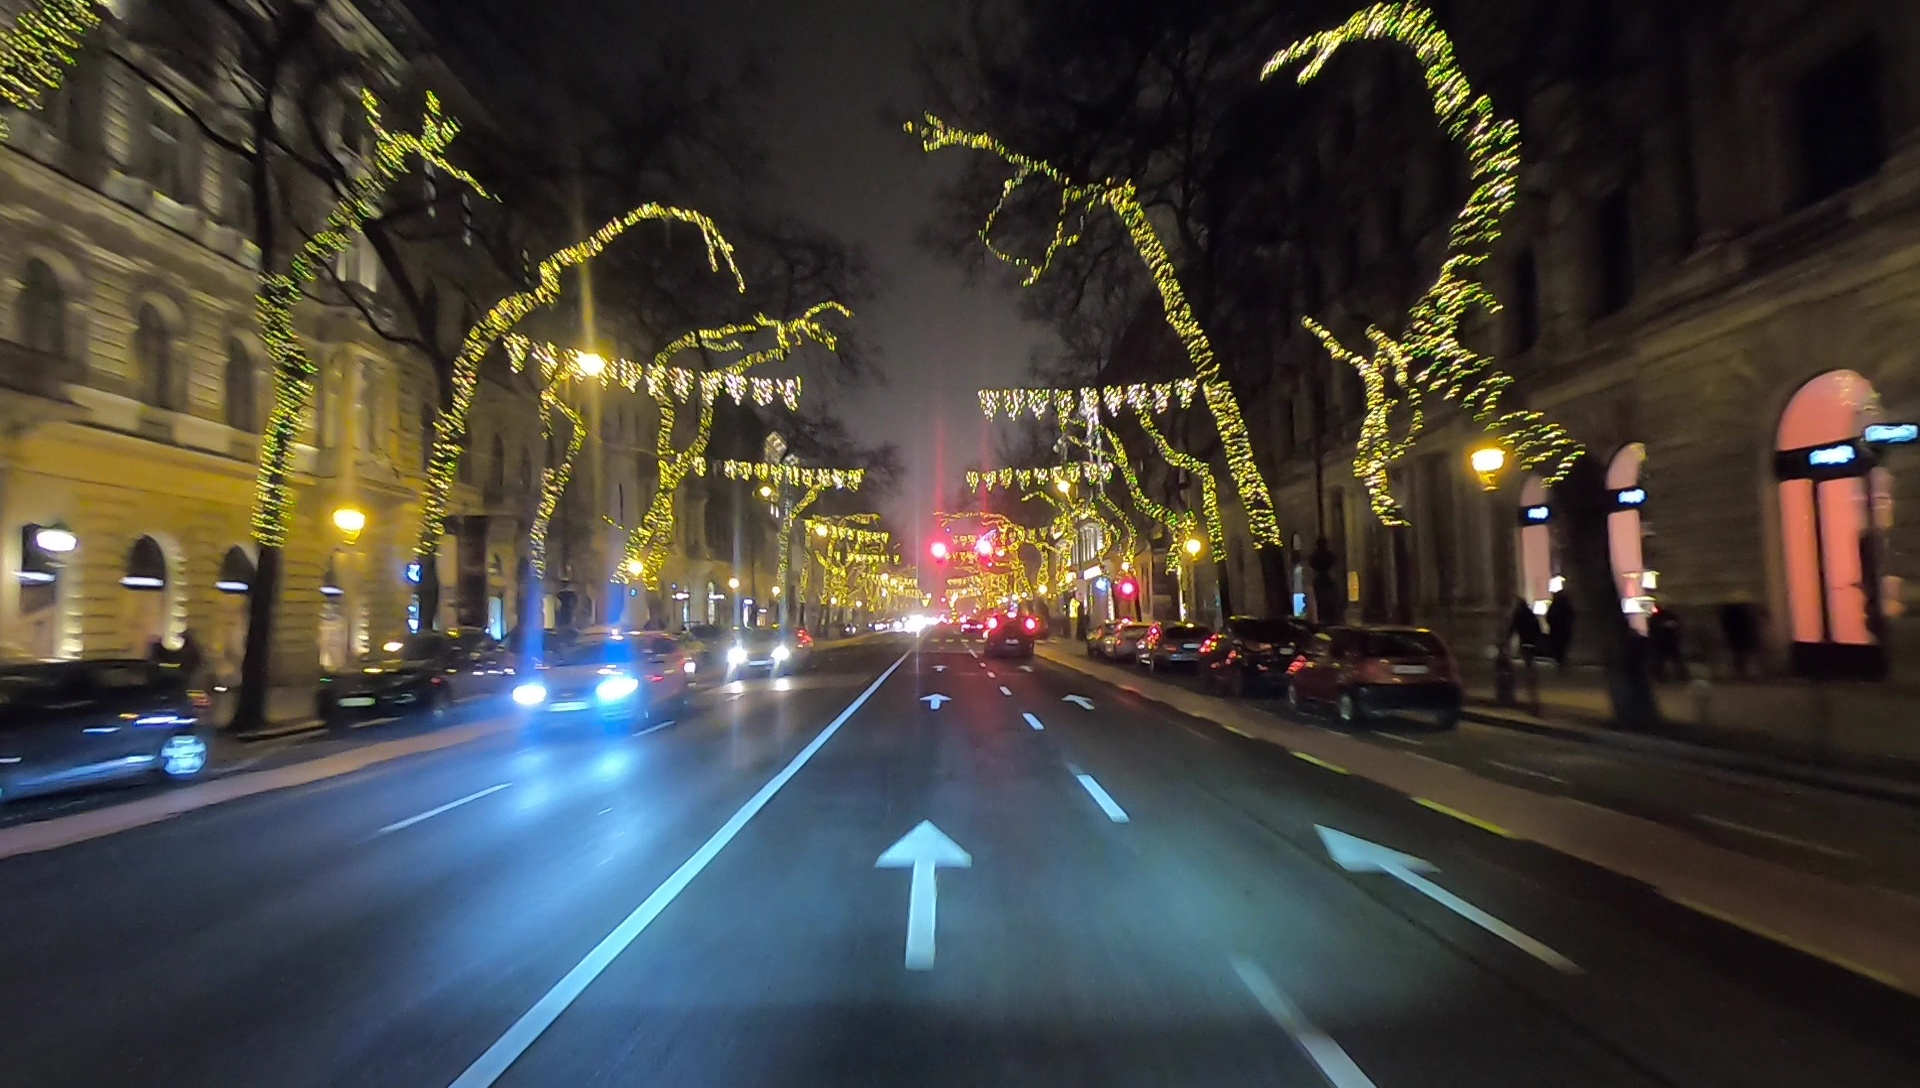person: (1716, 581, 1766, 681), (1641, 593, 1689, 689), (1499, 591, 1541, 678), (1544, 586, 1576, 675)
